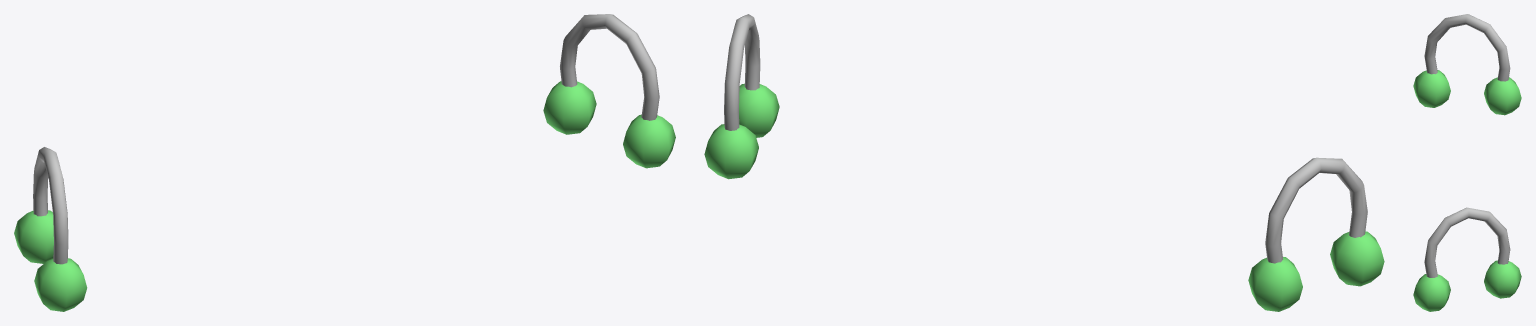
File: Earring_13.fbx
The picture shows the model from 3 angles, left to right: view 1: azimuth 30°, elevation 25°; view 2: azimuth 150°, elevation 25°; view 3: azimuth 270°, elevation 25°; orthographic projection. The views are drawn at different scales.
Parts seen in each view (by area): view 1: Earring_13; view 2: Earring_13; view 3: Earring_13.
Part boxes in pixels (x1,y1,x2,y2): Earring_13: [14, 14, 675, 311]; Earring_13: [704, 14, 1384, 311]; Earring_13: [1413, 14, 1521, 311].
Bounding box in the file's own units: 56.44 × 11.66 × 11.74.
